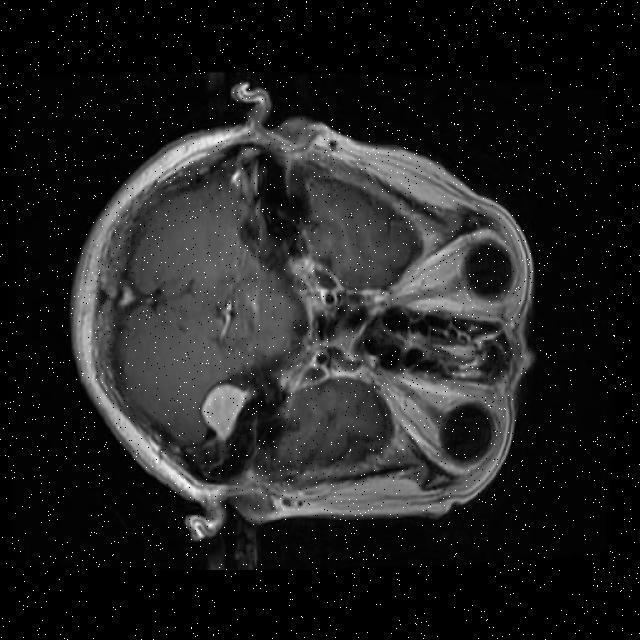Meningioma: (202, 383, 250, 441)
